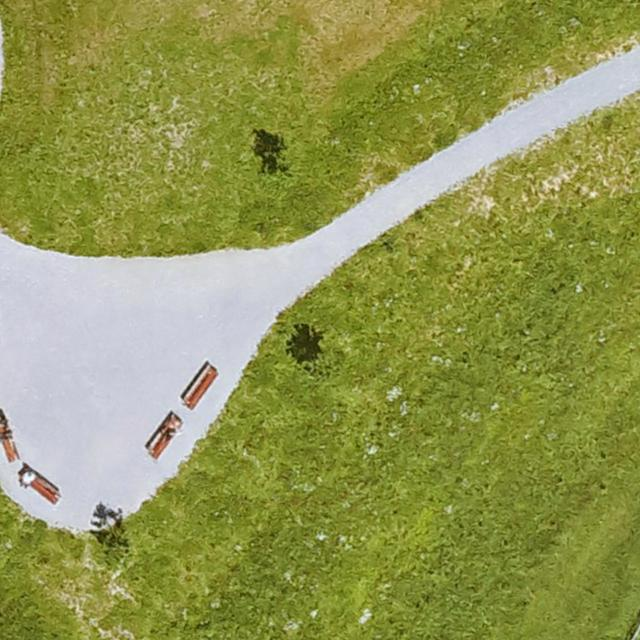tree: (306, 329, 344, 378), (267, 138, 300, 179), (102, 532, 136, 565)
